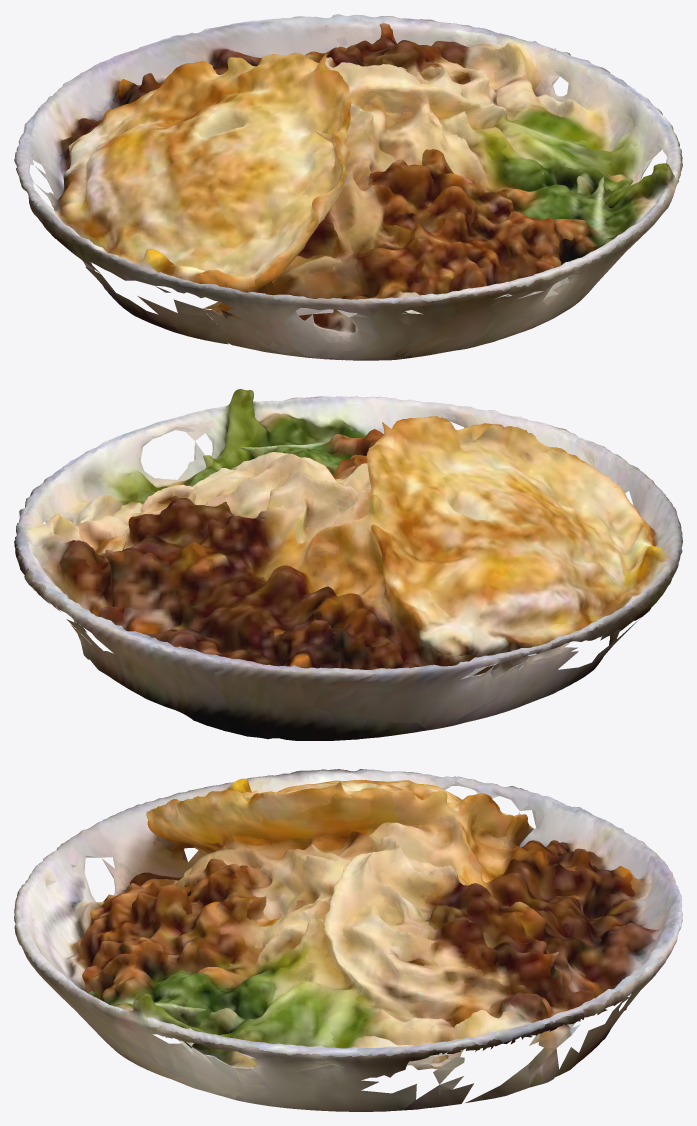
Rendered from noodles.glb.
3 renders of one model, top to bottom at view 1: azimuth 30°, elevation 25°; view 2: azimuth 150°, elevation 25°; view 3: azimuth 270°, elevation 25°, orthographic.
Visible parts, largest first — view 1: mesh_main_0; view 2: mesh_main_0; view 3: mesh_main_0.
Boxes of the visible parts, bbox=[...] form: mesh_main_0: bbox=[14, 14, 682, 360]; mesh_main_0: bbox=[14, 389, 682, 740]; mesh_main_0: bbox=[14, 769, 682, 1111].
Size of the model in its own units: 0.2261 by 0.0762 by 0.2246.
1 material, 1 textured.
